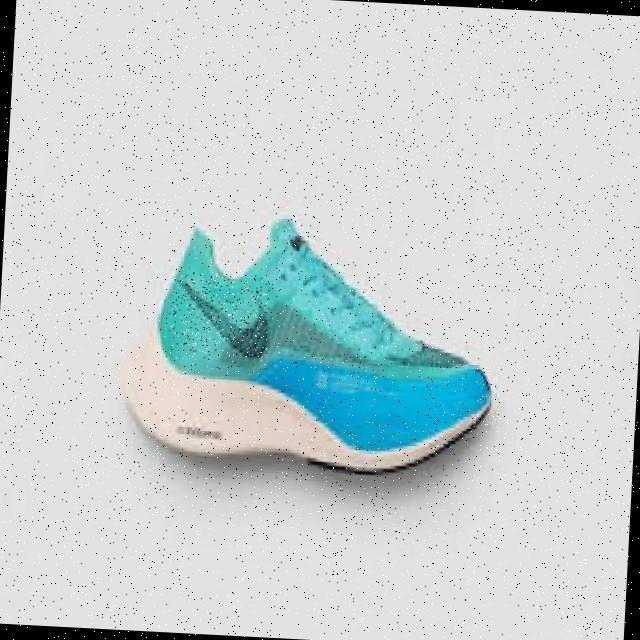Nike: (170, 272, 270, 359)
